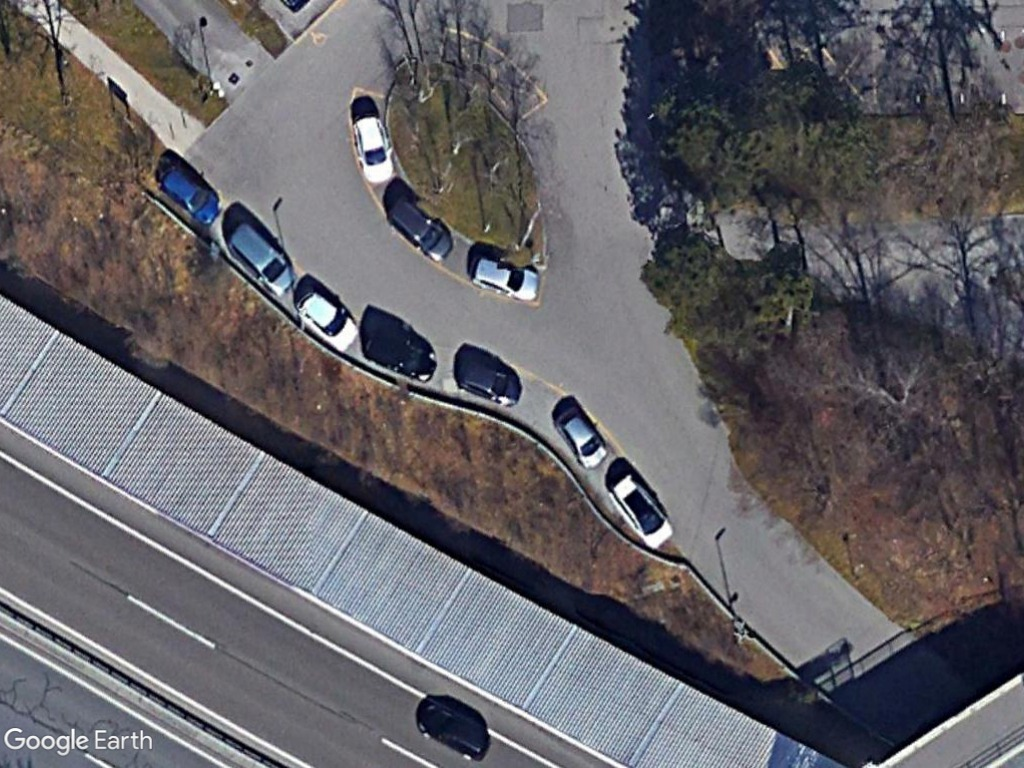car: (602, 471, 679, 548), (379, 192, 455, 263), (295, 284, 361, 354), (158, 161, 226, 225), (549, 403, 610, 474), (451, 355, 527, 410), (466, 254, 541, 305), (352, 108, 398, 189)
van: (228, 217, 300, 296)
